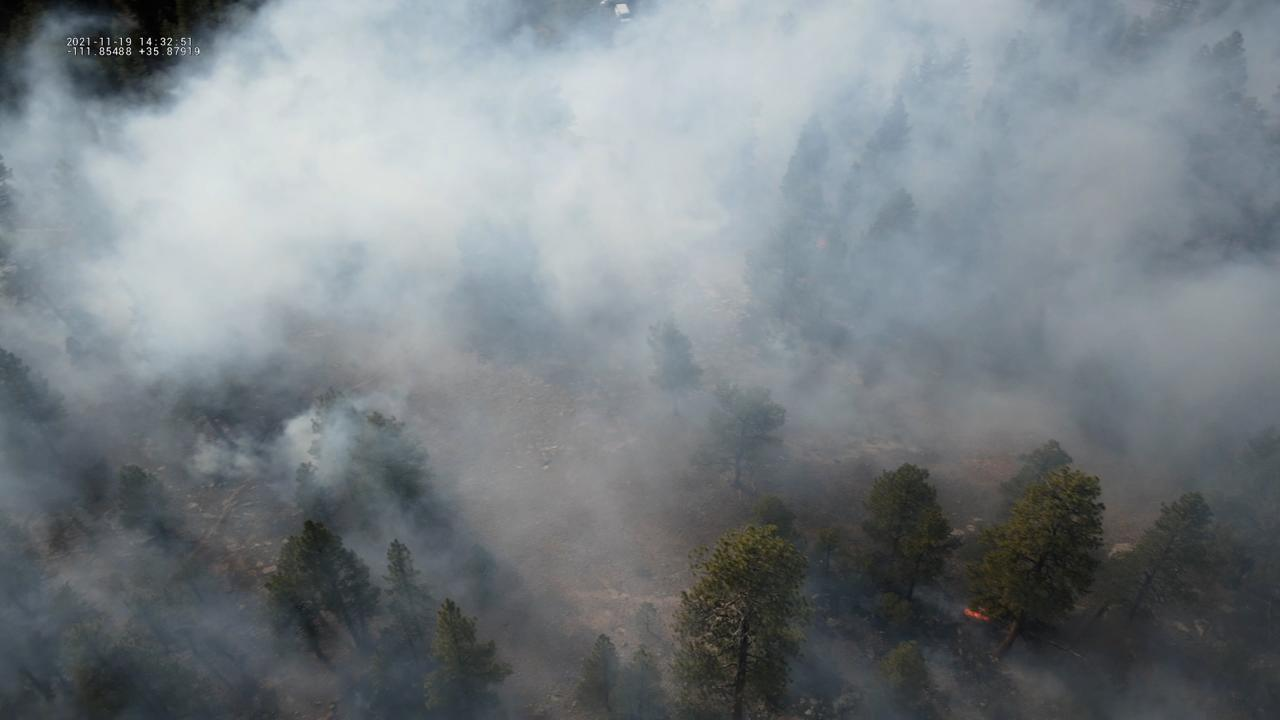fire: (963, 606, 991, 623)
smoke: (0, 0, 1280, 720)
